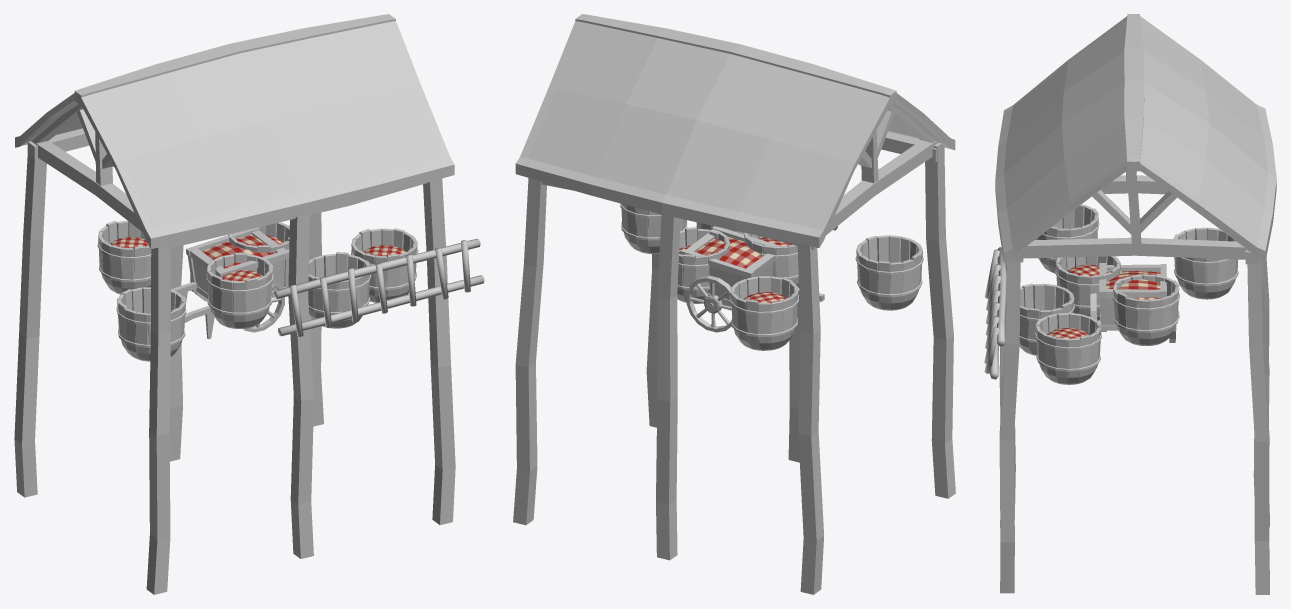
Rendered from OrchardFarm1.fbx.
3 renders of one model, left to right at view 1: azimuth 30°, elevation 25°; view 2: azimuth 150°, elevation 25°; view 3: azimuth 270°, elevation 25°, orthographic. The views are drawn at different scales.
Parts seen in each view (by area): view 1: Roof.001, Step_0, Post.029, Ladder, Post.022, Post.030, Post.025, Barrel.002, Barrel.003, Barrel.006, Barrel.004, Barrel.005 (+9 smaller); view 2: Roof.001, Step_0, Post.022, Post.032, Barrel.003, Barrel.006, Post.031, Post.023, Post.025, Barrel.001, Barrel.004, Post.029 (+8 smaller); view 3: Roof.001, Post.029, Post.031, Barrel.004, Step_1, Barrel.001, Barrel.003, Barrel.002, Barrel.005, Post.016, Ladder, Post.001 (+7 smaller).
Boxes of the visible parts, x1,y1,x2,y2 form: Roof.001: (15, 14, 454, 248); Step_0: (14, 155, 323, 594); Post.029: (423, 178, 455, 524); Ladder: (274, 238, 484, 336); Post.022: (18, 158, 46, 495); Post.030: (288, 214, 313, 557); Post.025: (150, 245, 170, 594); Barrel.002: (206, 253, 273, 328); Barrel.003: (97, 220, 151, 294); Barrel.006: (116, 287, 186, 361); Barrel.004: (351, 228, 418, 302); Barrel.005: (308, 252, 371, 328); Roof.001: (515, 14, 955, 247); Step_0: (515, 142, 955, 594); Post.022: (797, 244, 823, 592); Post.032: (656, 214, 680, 560); Barrel.003: (730, 276, 798, 350); Barrel.006: (855, 235, 923, 310); Post.031: (513, 178, 546, 525); Post.023: (826, 140, 937, 234); Post.025: (925, 143, 951, 497); Barrel.001: (677, 227, 729, 303); Barrel.004: (620, 203, 687, 253); Post.029: (646, 254, 659, 427); Roof.001: (995, 14, 1276, 262); Post.029: (999, 260, 1020, 593); Post.031: (1247, 249, 1269, 594); Barrel.004: (1035, 313, 1101, 384); Step_1: (1009, 177, 1258, 263); Barrel.001: (1112, 274, 1179, 345); Barrel.003: (1173, 227, 1238, 299); Barrel.002: (1055, 256, 1121, 320); Barrel.005: (1019, 283, 1074, 355); Post.016: (1033, 171, 1247, 252); Ladder: (984, 247, 1006, 379); Post.001: (1023, 237, 1245, 259).
Bounding box in the file's own units: 572 × 956 × 722.
